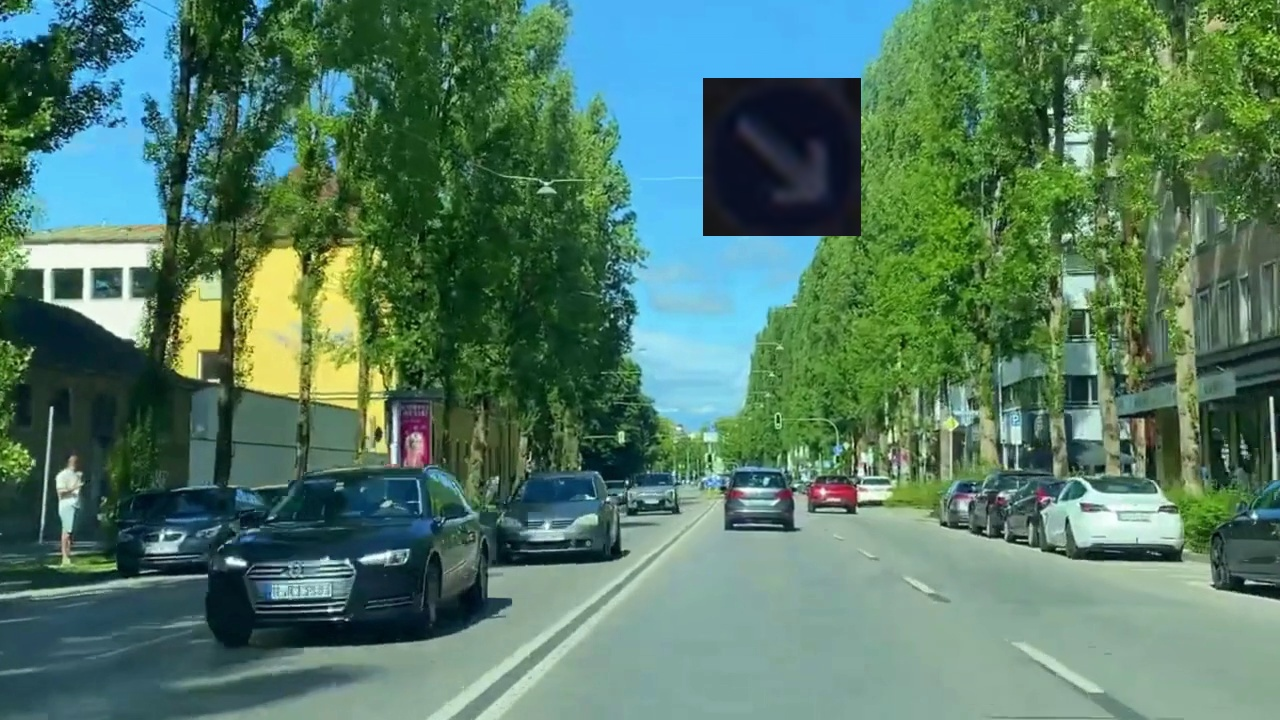Keep right: (703, 78, 861, 236)
